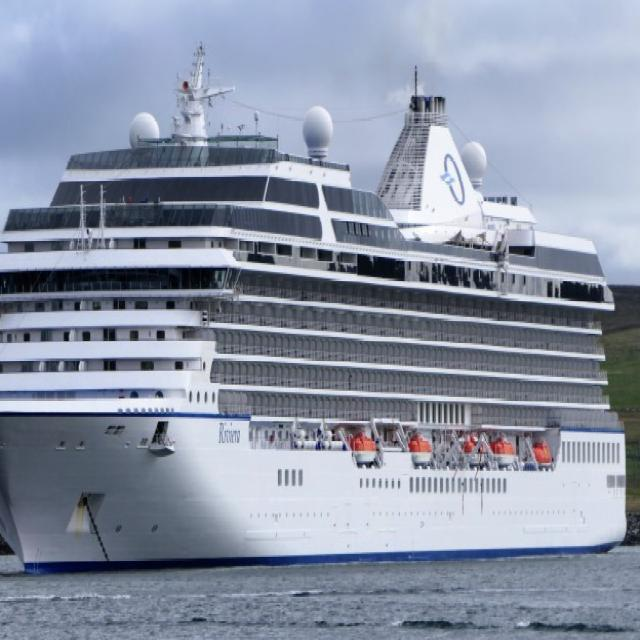cruises: (1, 29, 640, 576)
